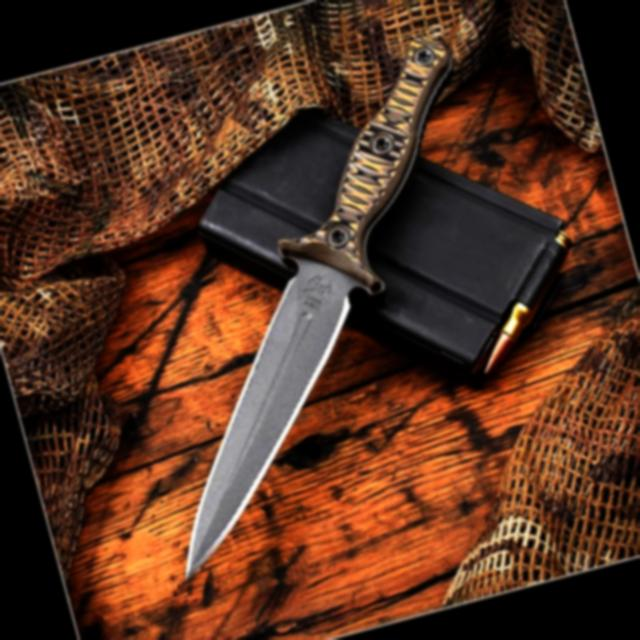short sword: (53, 8, 568, 580)
